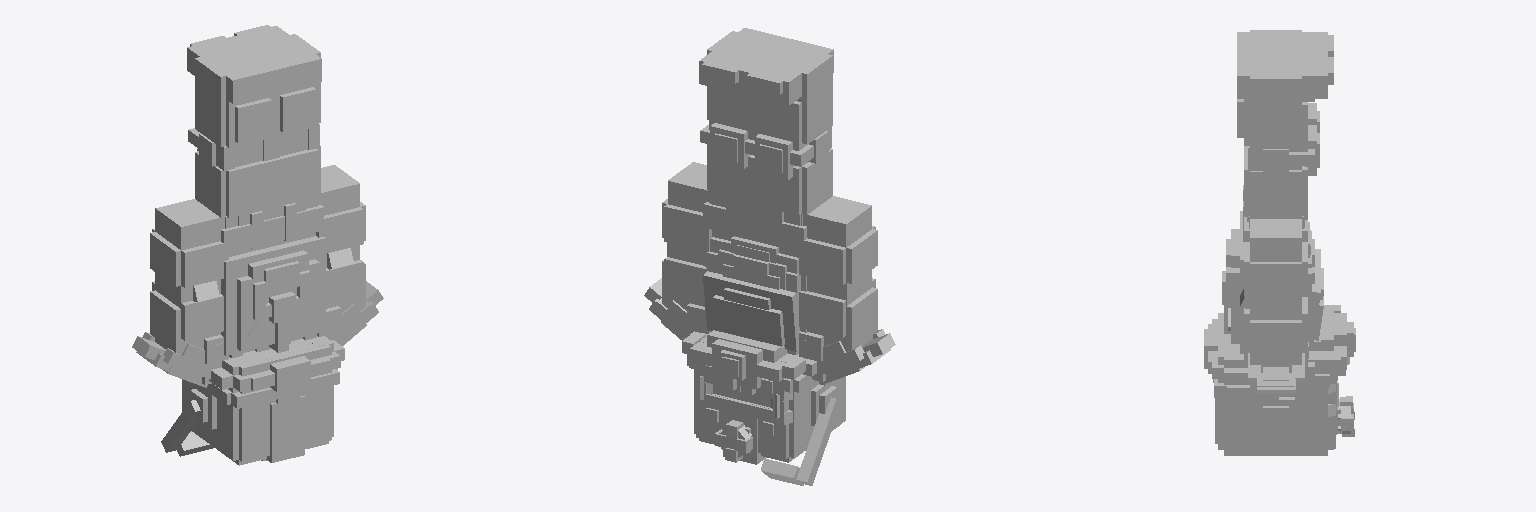
File: t51_full.obj
The picture shows the model from 3 angles: view 1: azimuth 30°, elevation 25°; view 2: azimuth 150°, elevation 25°; view 3: azimuth 270°, elevation 25°; orthographic projection.
Parts seen in each view (by area): view 1: Head, Body, RightArm, RightLeg, LeftArm, LeftLeg, RightBoot, LeftBoot; view 2: Head, RightArm, Body, RightLeg, LeftArm, LeftLeg, RightBoot, LeftBoot; view 3: Head, LeftArm, LeftLeg, LeftBoot, Body, RightBoot.
Boxes of the visible parts, <box> form: Head: <box>161,336,344,465</box>; Body: <box>221,197,325,357</box>; RightArm: <box>132,199,228,387</box>; RightLeg: <box>188,82,274,218</box>; LeftArm: <box>316,165,383,345</box>; LeftLeg: <box>269,83,320,207</box>; RightBoot: <box>187,36,276,103</box>; LeftBoot: <box>232,25,321,92</box>; Head: <box>682,330,845,485</box>; RightArm: <box>799,196,895,384</box>; Body: <box>703,194,806,354</box>; RightLeg: <box>754,79,832,215</box>; LeftArm: <box>644,162,711,340</box>; LeftLeg: <box>700,86,754,204</box>; RightBoot: <box>744,39,833,105</box>; LeftBoot: <box>699,28,788,94</box>; Head: <box>1204,305,1355,455</box>; LeftArm: <box>1240,219,1308,393</box>; LeftLeg: <box>1237,99,1319,218</box>; LeftBoot: <box>1237,51,1333,101</box>; Body: <box>1222,185,1323,353</box>; RightBoot: <box>1237,30,1333,56</box>.
Size of the model in its own units: 21.36 by 34.5 by 11.8.